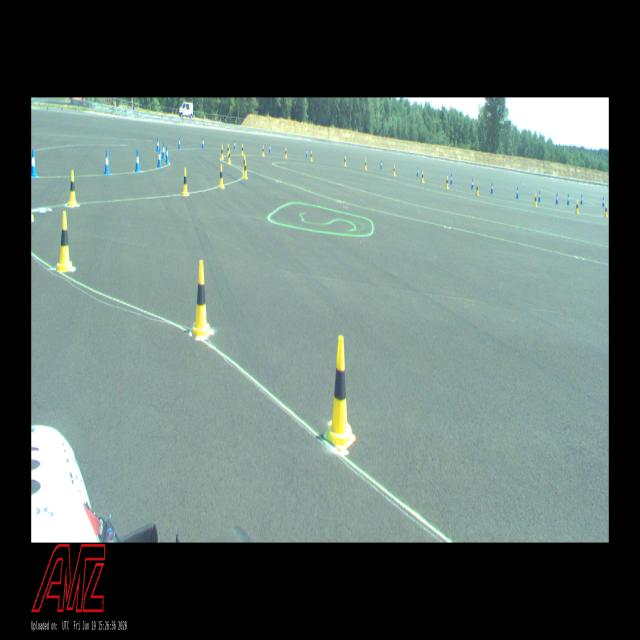blue_cone: (103, 150, 110, 175), (32, 149, 38, 178), (134, 150, 140, 172), (157, 148, 162, 167), (165, 145, 169, 163), (162, 142, 165, 158), (156, 138, 159, 152), (178, 137, 181, 149), (538, 190, 541, 202), (556, 192, 558, 205), (491, 182, 493, 194), (516, 186, 518, 198), (471, 178, 473, 190), (567, 194, 569, 205), (202, 138, 204, 149), (450, 173, 452, 184), (416, 166, 418, 177), (580, 194, 582, 205), (380, 159, 382, 169), (234, 140, 236, 150), (306, 148, 308, 158), (269, 143, 271, 153), (602, 197, 604, 206)
yellow_cone: (323, 334, 356, 452), (192, 260, 210, 338), (56, 212, 72, 272), (67, 170, 78, 207), (182, 168, 188, 195), (219, 164, 224, 189), (243, 159, 248, 179), (220, 145, 224, 160), (534, 193, 538, 207), (575, 200, 579, 213), (475, 182, 479, 195), (604, 204, 608, 217), (228, 148, 231, 164), (446, 176, 449, 189), (421, 171, 424, 183), (241, 143, 244, 155), (310, 150, 313, 162), (262, 144, 265, 156), (393, 164, 396, 176), (243, 154, 245, 170), (227, 143, 229, 156), (365, 160, 367, 170), (285, 148, 287, 158), (344, 157, 346, 166)
